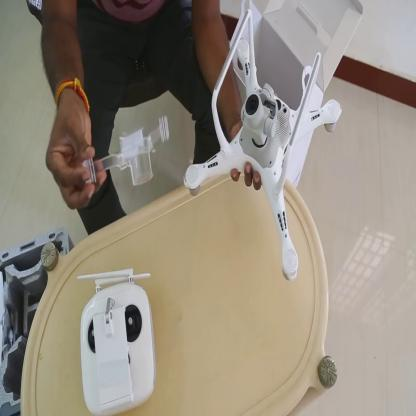drone: (179, 29, 344, 280)
